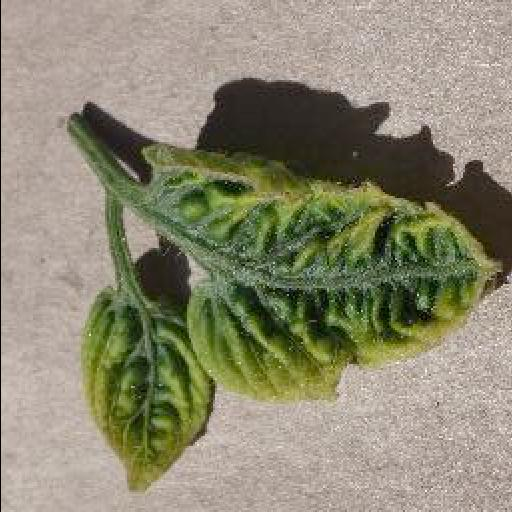disease_tomato: (142, 142, 508, 408), (81, 286, 215, 498)
